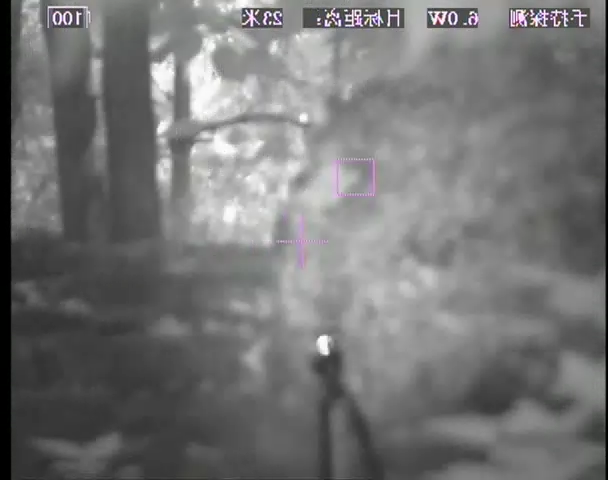my: (313, 333, 336, 356)
